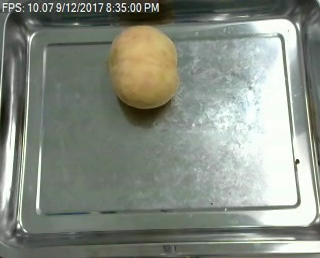Peach: (108, 24, 179, 109)
